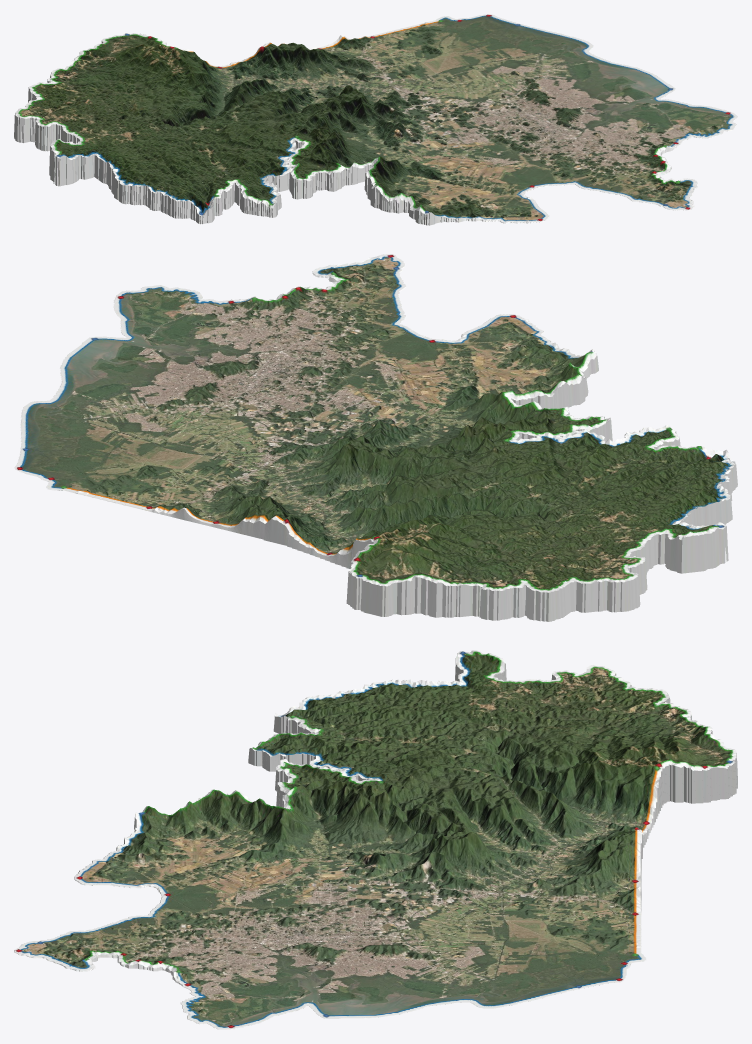
The picture shows the model from 3 angles, top to bottom: view 1: azimuth 30°, elevation 25°; view 2: azimuth 150°, elevation 25°; view 3: azimuth 270°, elevation 25°; orthographic projection. The views are drawn at different scales.
Size of the model in its own units: 0.9993 by 0.0548 by 0.8857.
Materials: 1 (1 with a texture image).
